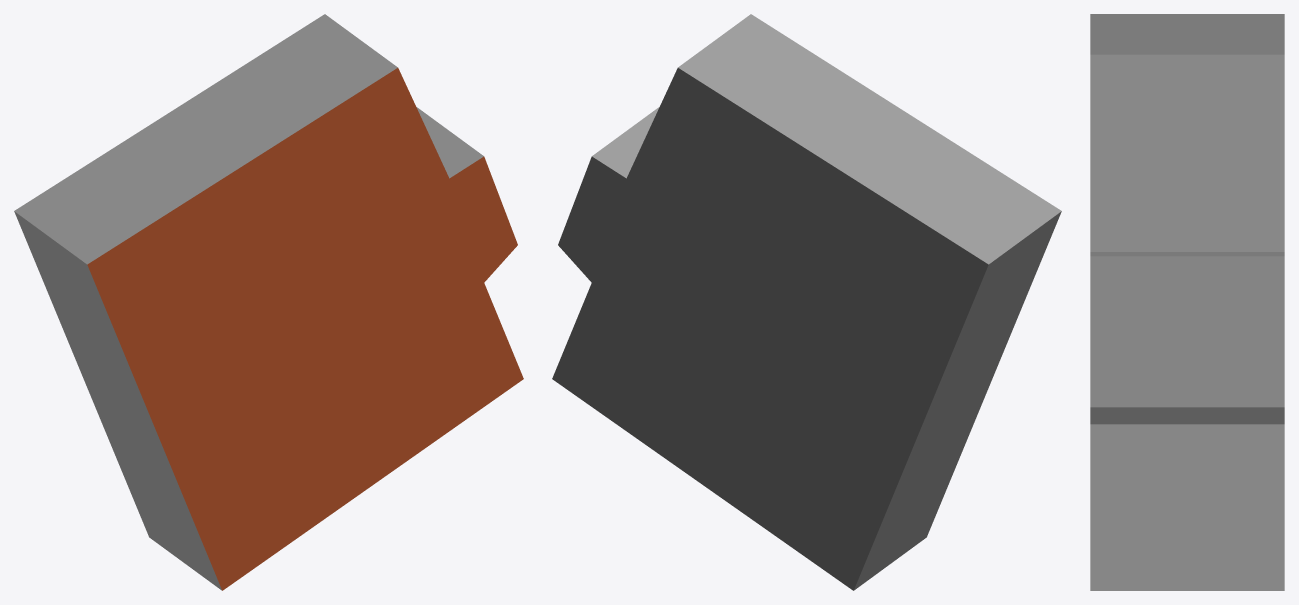
Rendered from construction_2425_assumed_A_Casa_h6m.obj.
3 views of the same model, side by side, from view 1: azimuth 30°, elevation 25°; view 2: azimuth 150°, elevation 25°; view 3: azimuth 270°, elevation 25° (orthographic). The views are drawn at different scales.
Parts seen in each view (by area): view 1: construction_2425_assumed_A_Casa; view 2: construction_2425_assumed_A_Casa; view 3: construction_2425_assumed_A_Casa.
Part boxes in pixels (x1=…): construction_2425_assumed_A_Casa: x1=14, y1=14, x2=523, y2=590; construction_2425_assumed_A_Casa: x1=552, y1=14, x2=1061, y2=590; construction_2425_assumed_A_Casa: x1=1090, y1=14, x2=1284, y2=590.
Bounding box in the file's own units: 20.67 × 21.74 × 6.
